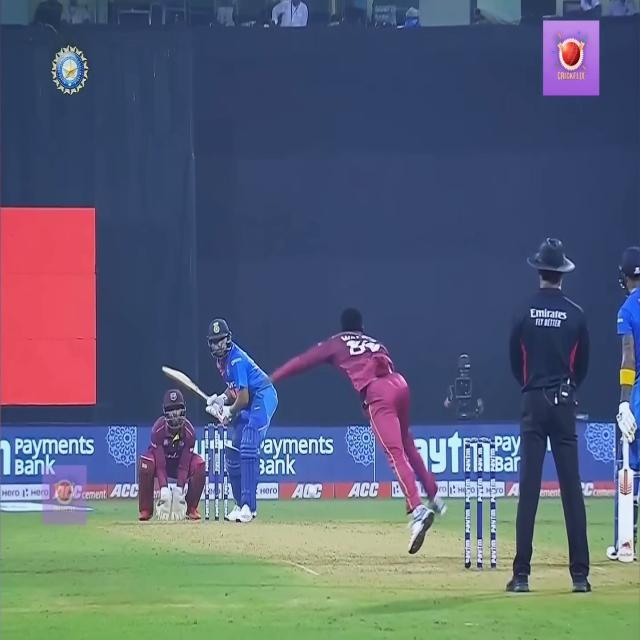partially_visible: (409, 419, 494, 480)
